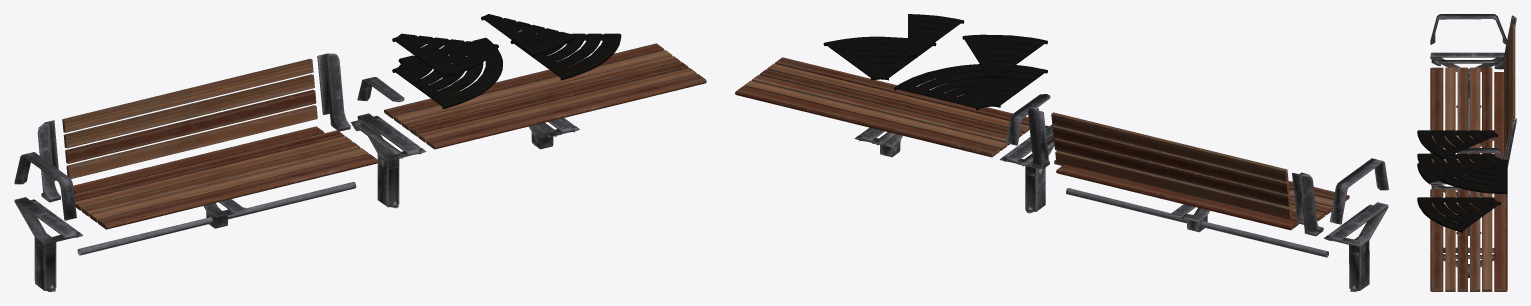
Rendered from modular_street_seating.glb.
3 views of the same model, side by side, from view 1: azimuth 30°, elevation 25°; view 2: azimuth 150°, elevation 25°; view 3: azimuth 270°, elevation 25° (orthographic). The views are drawn at different scales.
Parts seen in each view (by area): view 1: seat, seat_back, connector_60, legs_double, crossbar; view 2: seat, seat_back, connector_60, crossbar, legs_double; view 3: seat, connector_60, legs_double, crossbar, seat_back.
Boxes of the visible parts, bbox=[...] form: seat: bbox=[73, 43, 706, 229]; seat_back: bbox=[62, 58, 317, 178]; connector_60: bbox=[392, 14, 621, 109]; legs_double: bbox=[14, 113, 579, 291]; crossbar: bbox=[14, 53, 404, 255]; seat: bbox=[735, 57, 1349, 230]; seat_back: bbox=[1051, 112, 1292, 219]; connector_60: bbox=[823, 14, 1047, 110]; crossbar: bbox=[1006, 94, 1388, 257]; legs_double: bbox=[854, 124, 1388, 291]; seat: bbox=[1430, 67, 1507, 291]; connector_60: bbox=[1417, 130, 1507, 232]; legs_double: bbox=[1430, 52, 1504, 277]; crossbar: bbox=[1430, 14, 1516, 195]; seat_back: bbox=[1504, 24, 1515, 157].
Size of the model in its own units: 4.34 by 0.9499 by 0.7703.
Materials: 4 (4 with a texture image).
